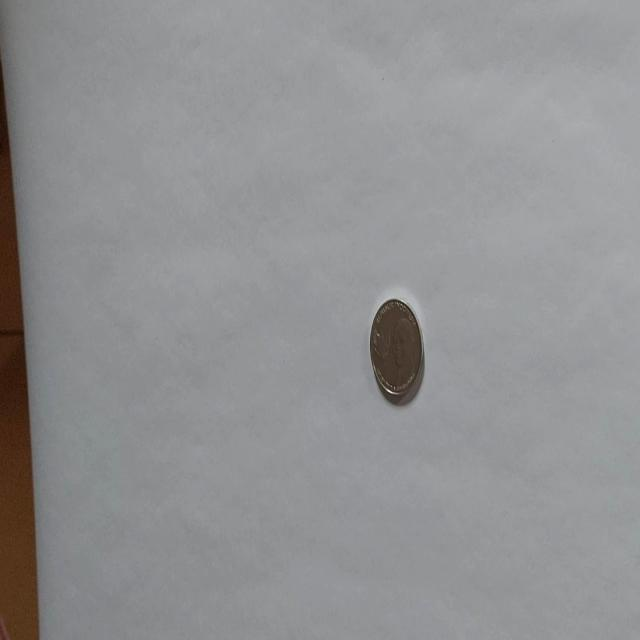lima ratus rupiah: (368, 296, 424, 406)
